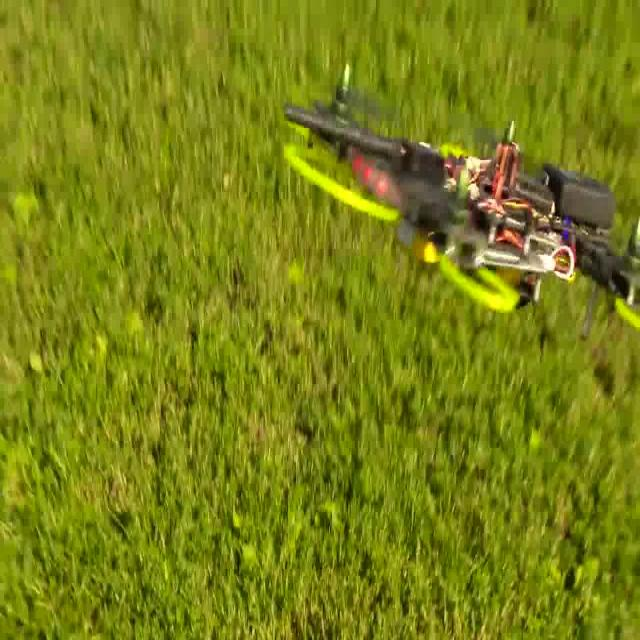drones: (268, 29, 640, 344)
